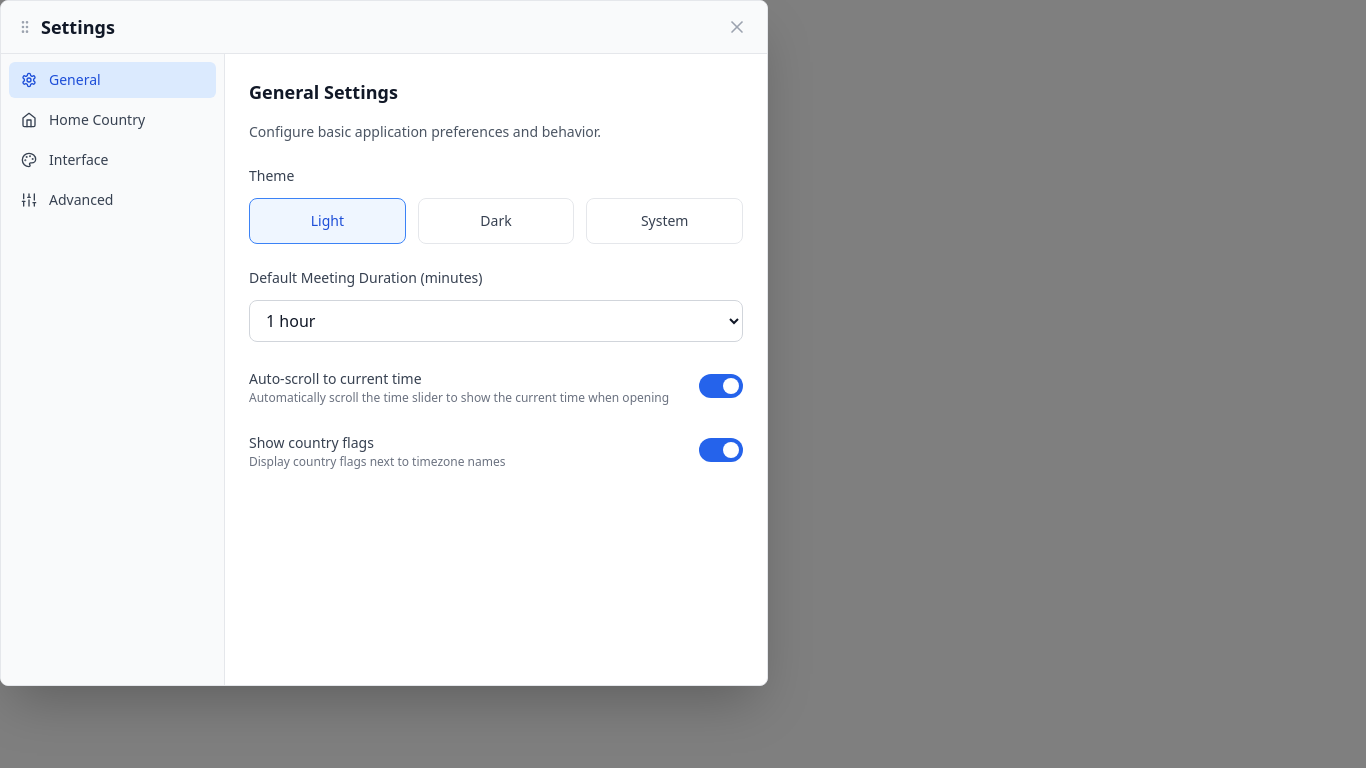
SettingsModal Form Controls and Validation › Interface Tab › renders interface settings controls
What coordinates should you click on to do the following:
click the button "Interface"
I would click on:
 (112, 160)
Its box is top-left (9, 142), bottom-right (216, 178).
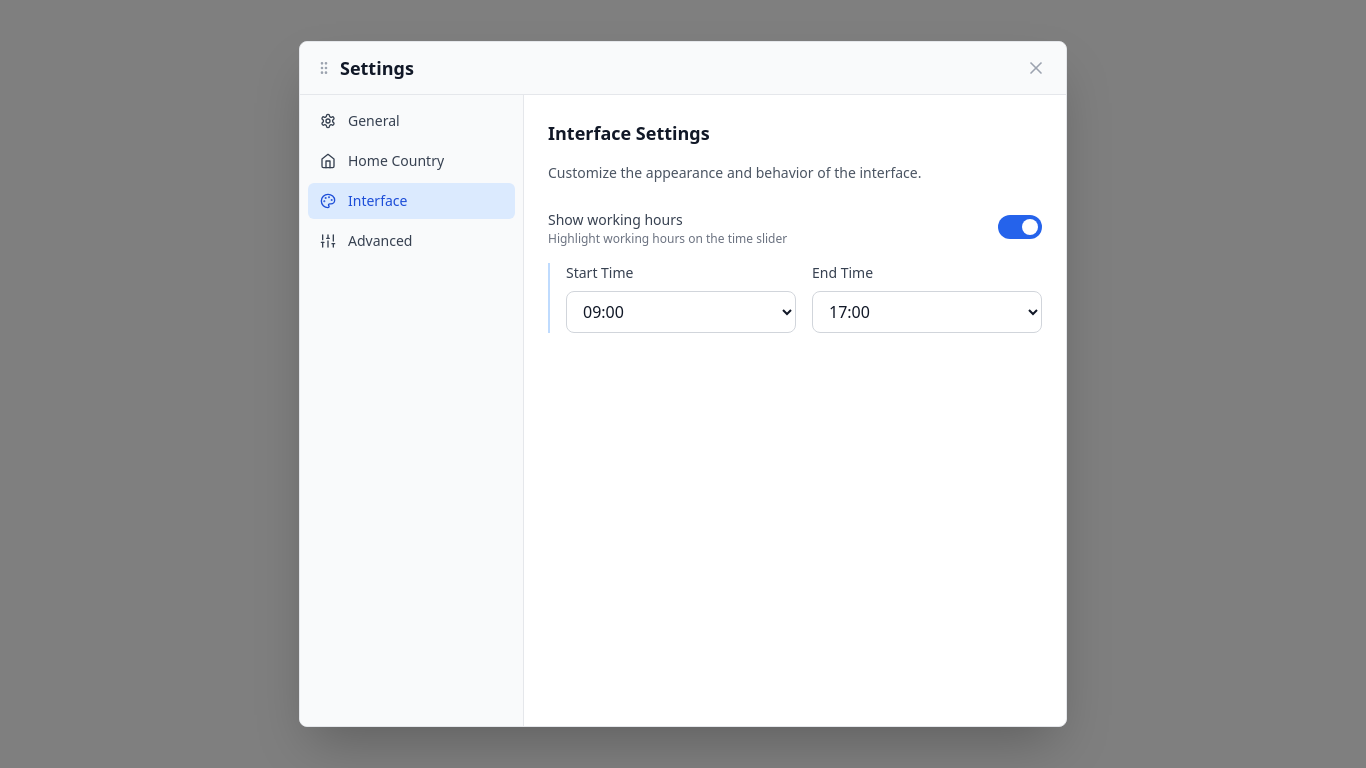
expect the heading "Interface Settings" is shown: met, box top-left (548, 121), bottom-right (710, 145)
expect the text "Show working hours" is shown: met, box top-left (548, 210), bottom-right (683, 229)
